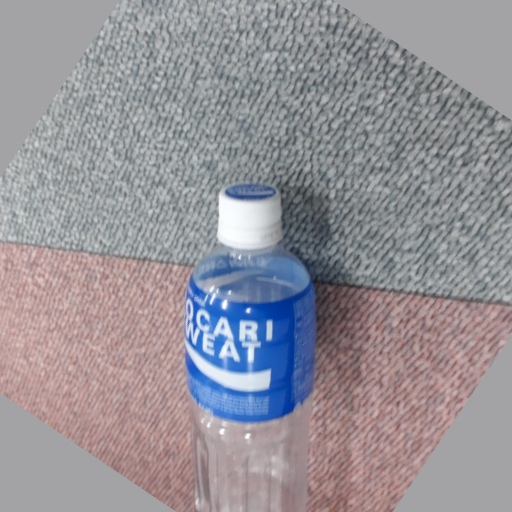Plastic_0: (184, 183, 317, 512)
